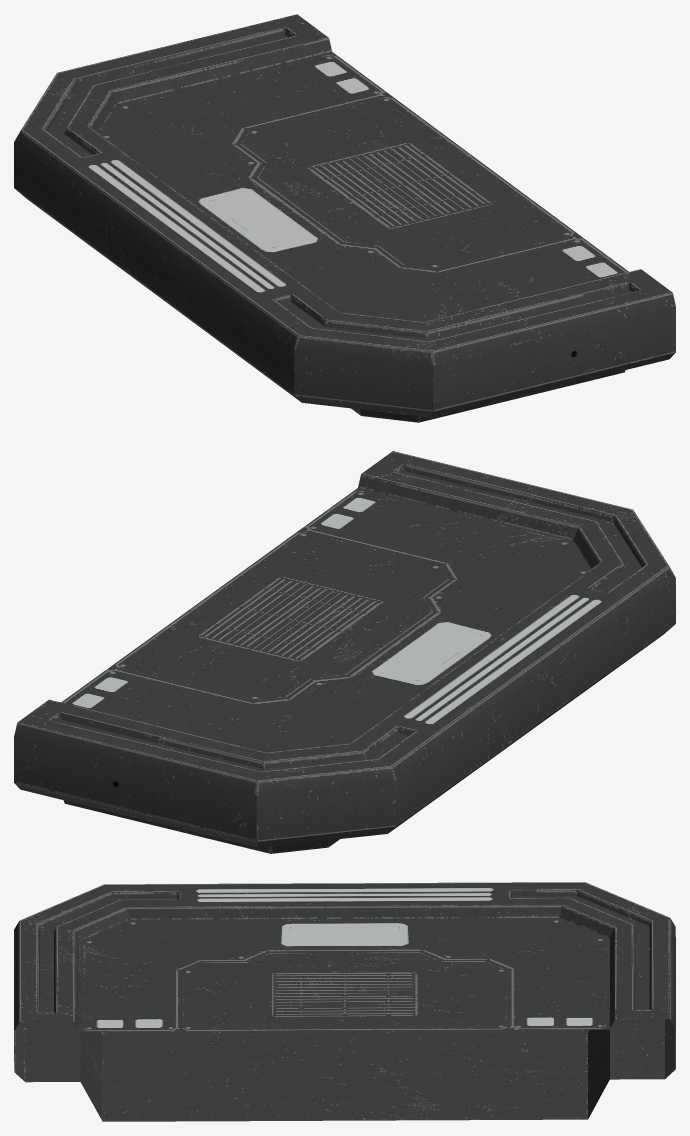
File: scifi_platform_end.glb
3 renders of one model, top to bottom at view 1: azimuth 30°, elevation 25°; view 2: azimuth 150°, elevation 25°; view 3: azimuth 270°, elevation 25°, orthographic. The views are drawn at different scales.
Visible parts, largest first — view 1: PlatformEnd6x3_PlatformBasis6x6_0; view 2: PlatformEnd6x3_PlatformBasis6x6_0; view 3: PlatformEnd6x3_PlatformBasis6x6_0.
Boxes of the visible parts, x1,y1,x2,y2 form: PlatformEnd6x3_PlatformBasis6x6_0: [14, 14, 675, 422]; PlatformEnd6x3_PlatformBasis6x6_0: [14, 451, 675, 853]; PlatformEnd6x3_PlatformBasis6x6_0: [14, 882, 675, 1121].
Size of the model in its own units: 300 by 103 by 600.
1 material, 1 textured.
